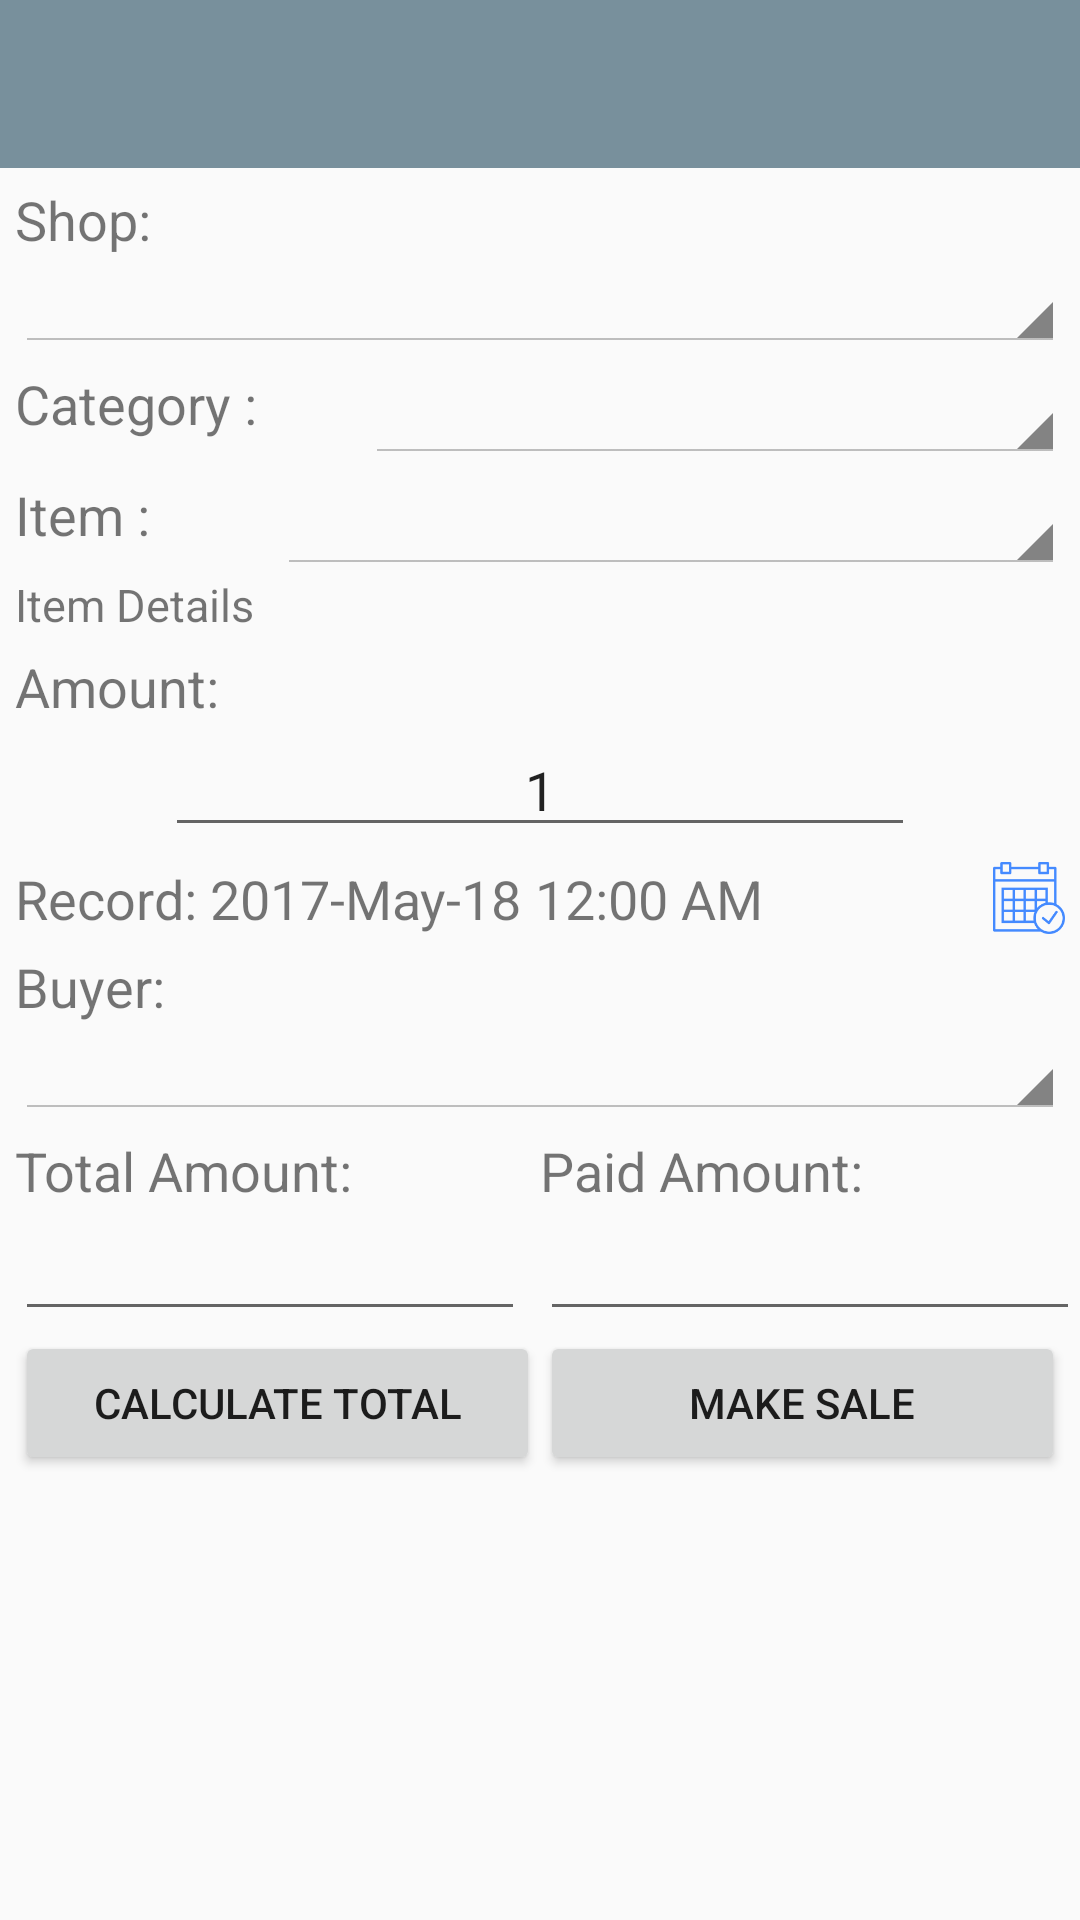

Locate icon controls on the screen. Image size 1080px x 1920px, boxes as box=[x1, y1, x2, y2].
datepicker: box=[993, 862, 1065, 934]
